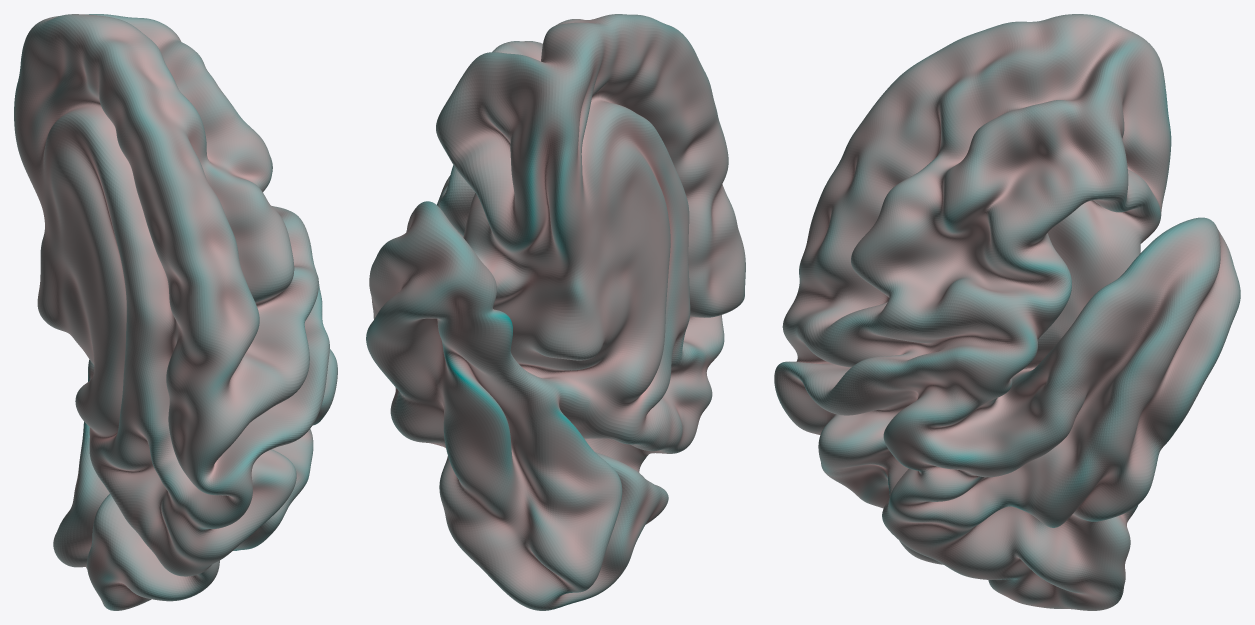
Rendered from cortex_rh_inflated.glb.
3 views of the same model, side by side, from view 1: azimuth 30°, elevation 25°; view 2: azimuth 150°, elevation 25°; view 3: azimuth 270°, elevation 25° (orthographic).
Visible parts, largest first — view 1: world; view 2: world; view 3: world.
Part boxes in pixels (x1,y1,x2,y2): world: (14, 14, 337, 610); world: (366, 14, 745, 610); world: (774, 14, 1240, 610).
Size of the model in its own units: 69.04 by 172 by 125.
